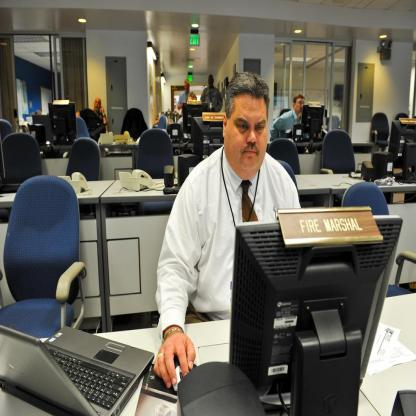board: (0, 326, 155, 415)
